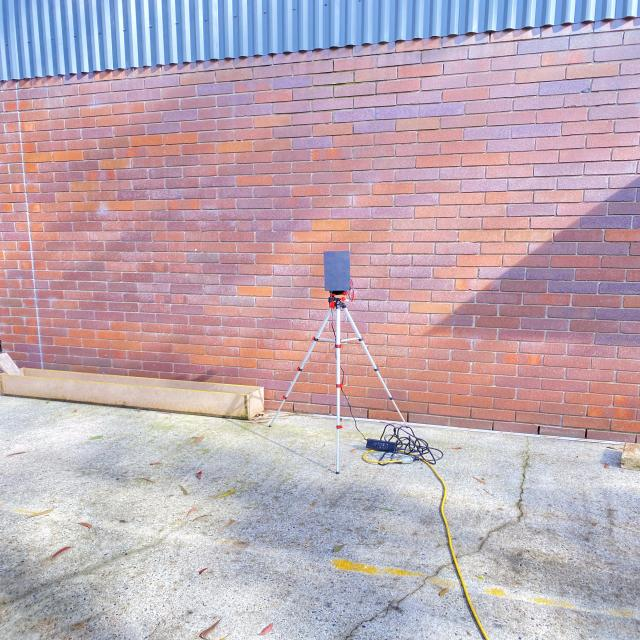matrix: (318, 248, 356, 292)
